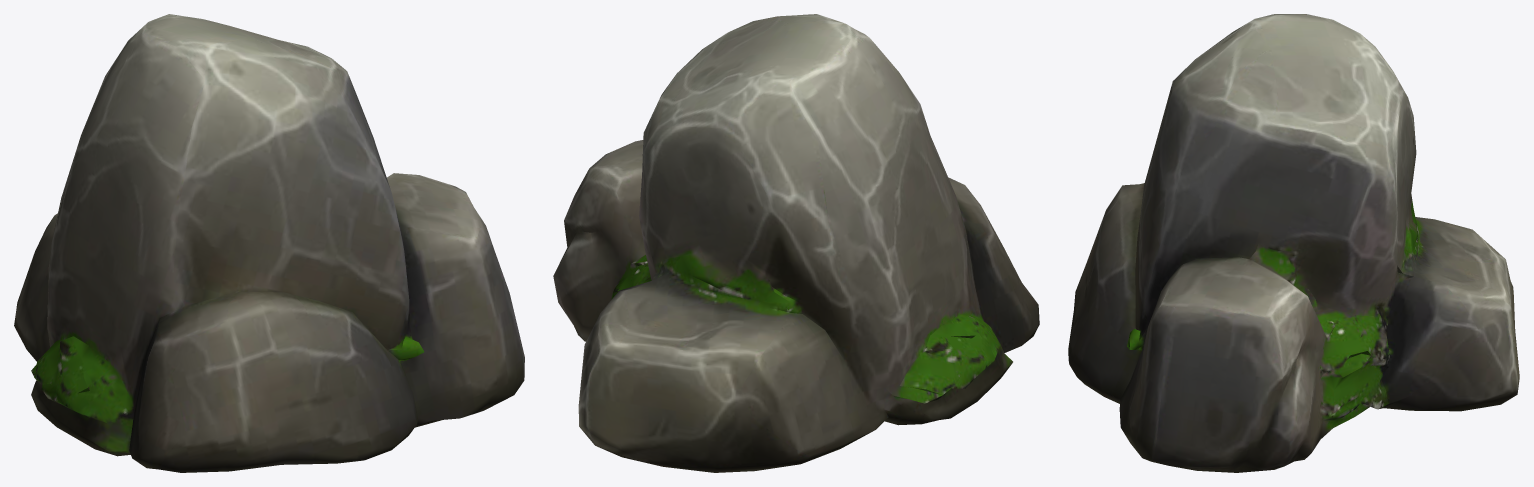
File: rocks.glb
3 views of the same model, side by side, from view 1: azimuth 30°, elevation 25°; view 2: azimuth 150°, elevation 25°; view 3: azimuth 270°, elevation 25° (orthographic). The views are drawn at different scales.
Visible parts, largest first — view 1: world; view 2: world; view 3: world.
Part boxes in pixels (left/top/right/bottom): world: left=14, top=14, right=524, bottom=472; world: left=553, top=14, right=1039, bottom=472; world: left=1068, top=14, right=1519, bottom=472.
Bounding box in the file's own units: 0.9957 × 0.8303 × 0.9984.
Materials: 1 (1 with a texture image).
